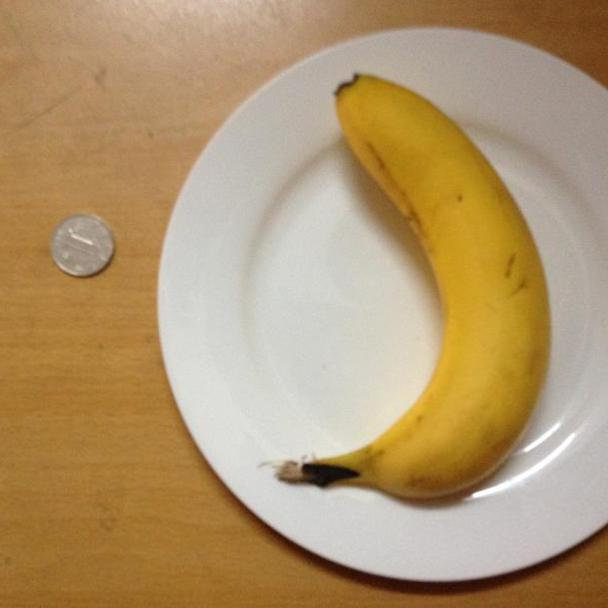banana: (331, 73, 556, 500)
